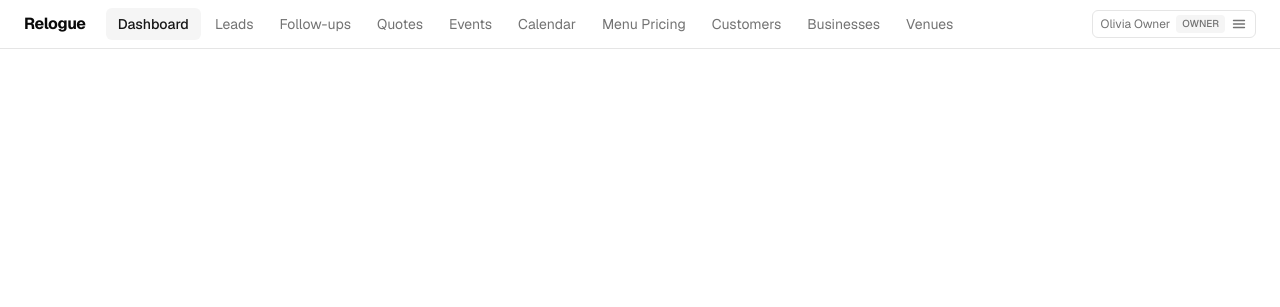
Test case: TopNav account menu › opens on click and reports itself expanded
The width and height of the screenshot is (1280, 307).
Step 1. Click the button with aria-label "account and admin menu" → (1174, 24), box [1092, 10, 1256, 38]
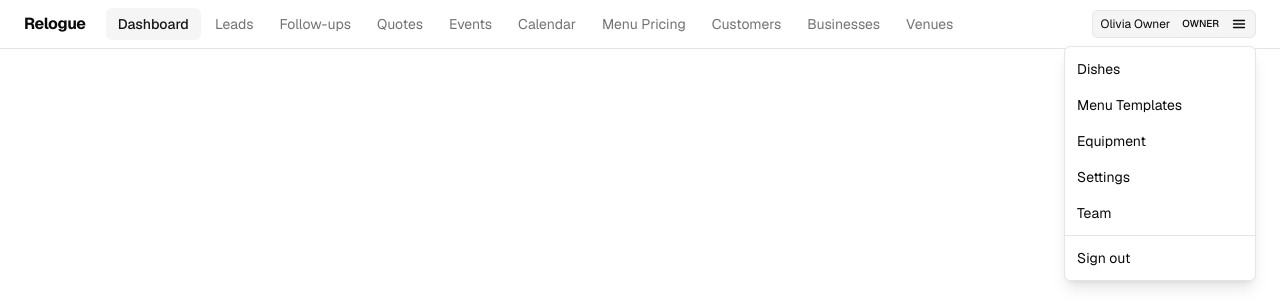
Now the button with aria-label "account and admin menu" is expanded, box [1092, 10, 1256, 38]
Now the menu is shown, box [1064, 46, 1256, 281]
